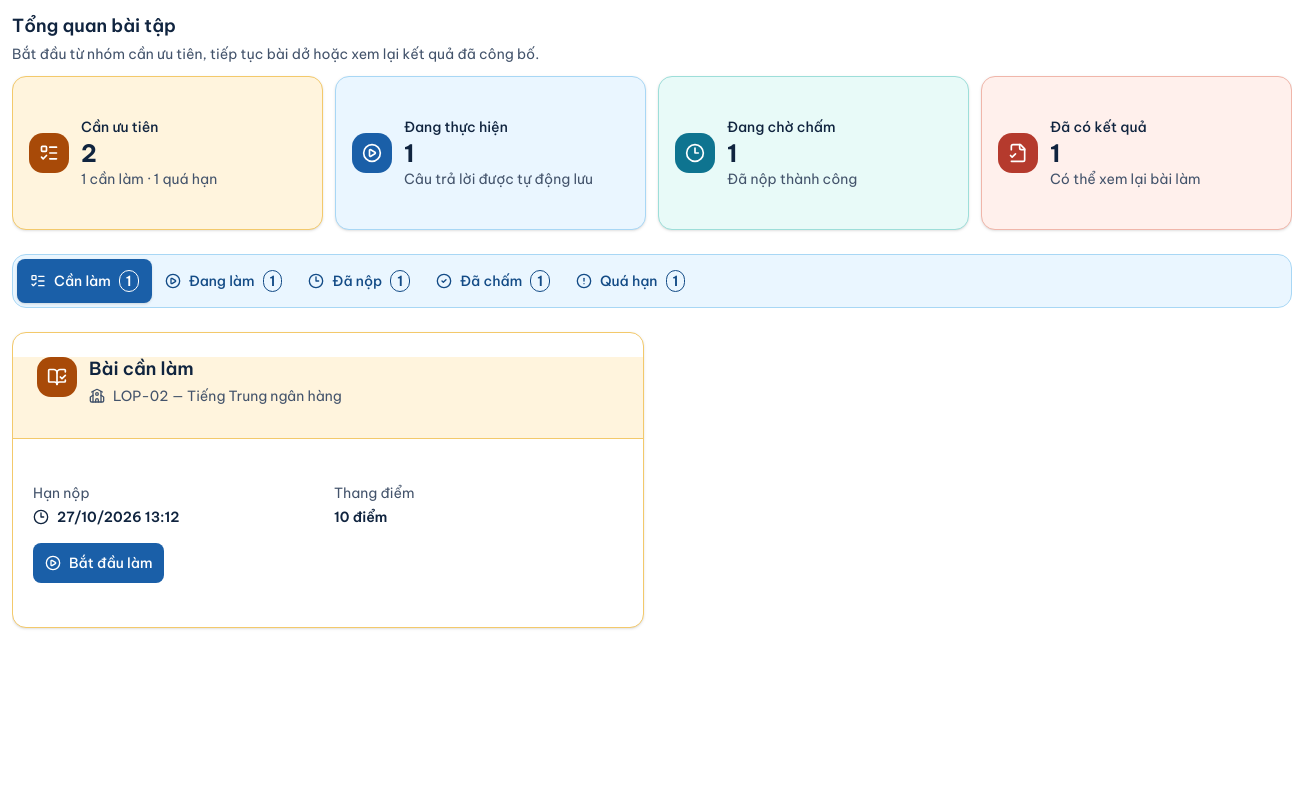
Test case: StudentExerciseList › dùng manual activation để phím mũi tên chỉ dời focus
Step 1. Click the tab "Cần làm 1" → (84, 281), box [17, 259, 152, 303]
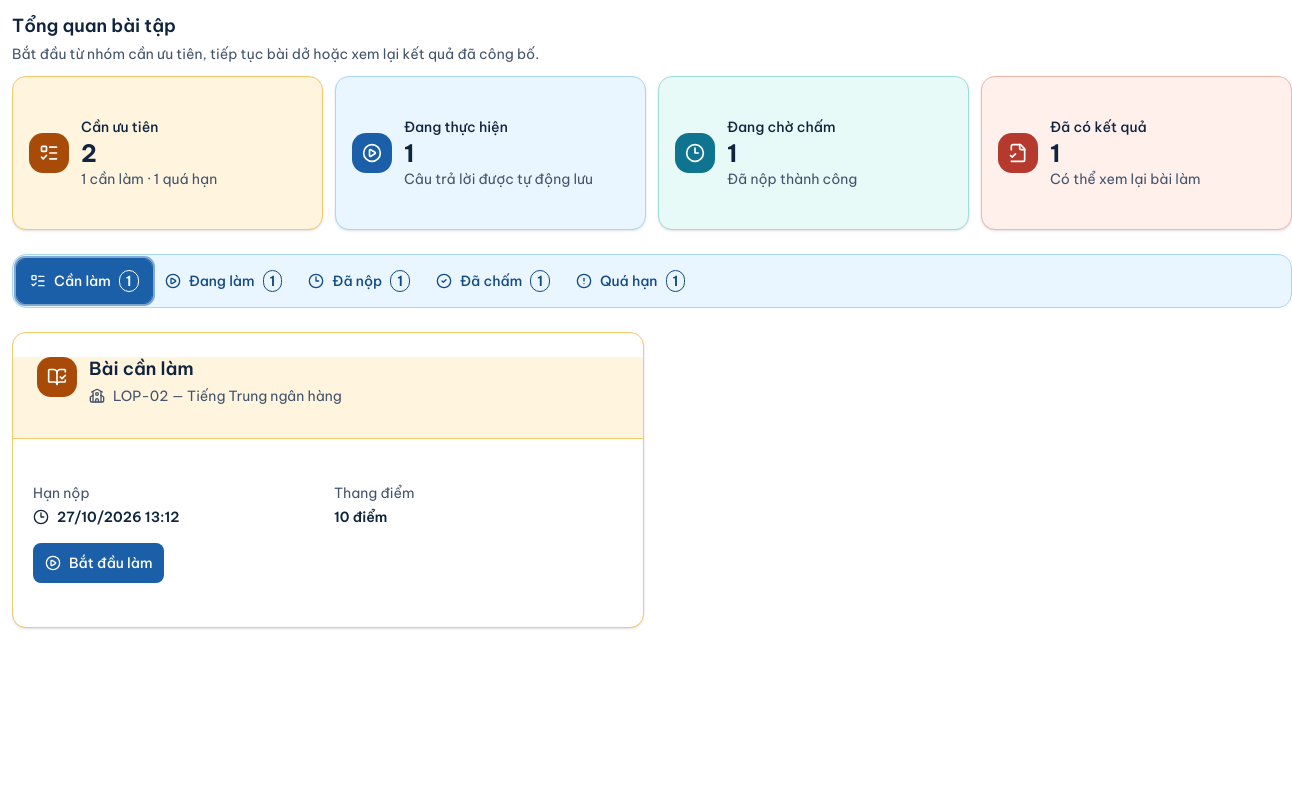
Step 2. Press Arrowright
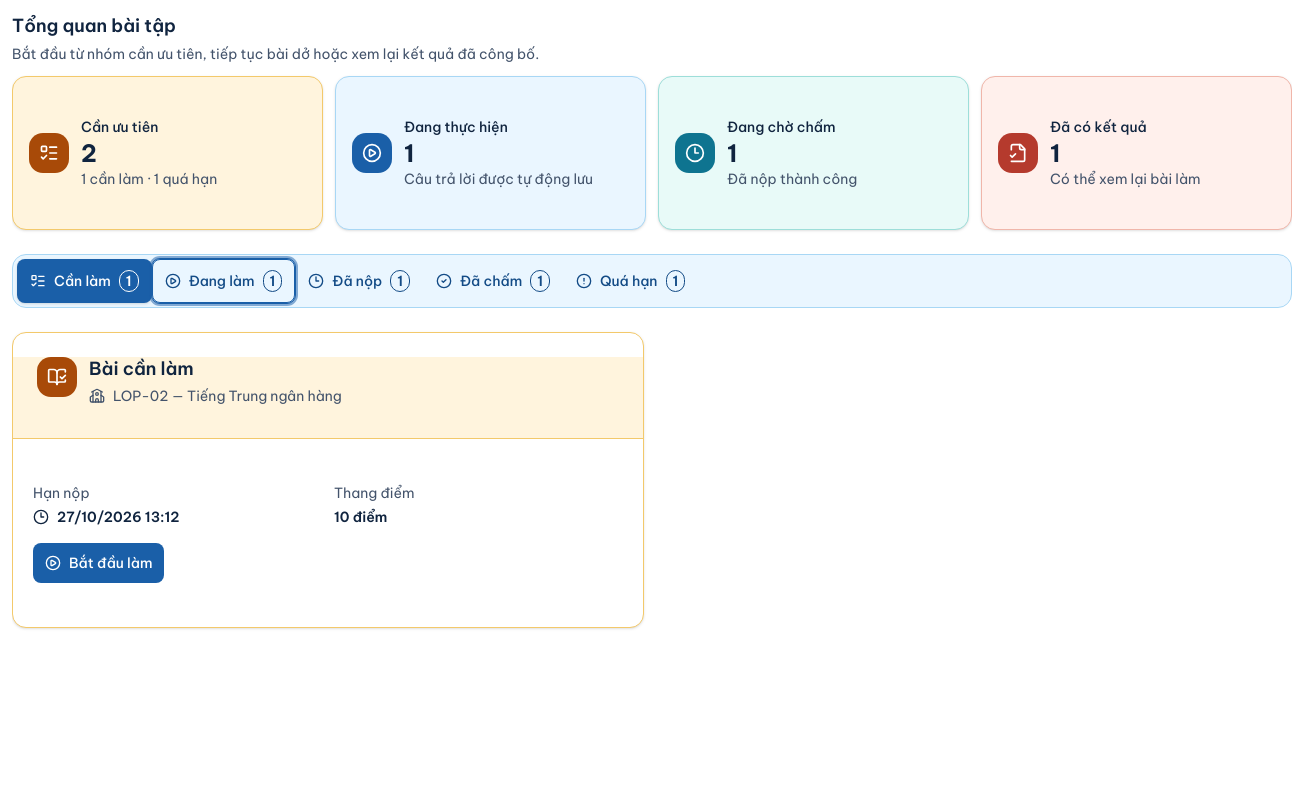
expect the heading "Bài cần làm" is shown: met, box [89, 357, 194, 380]
Step 3. Press Enter
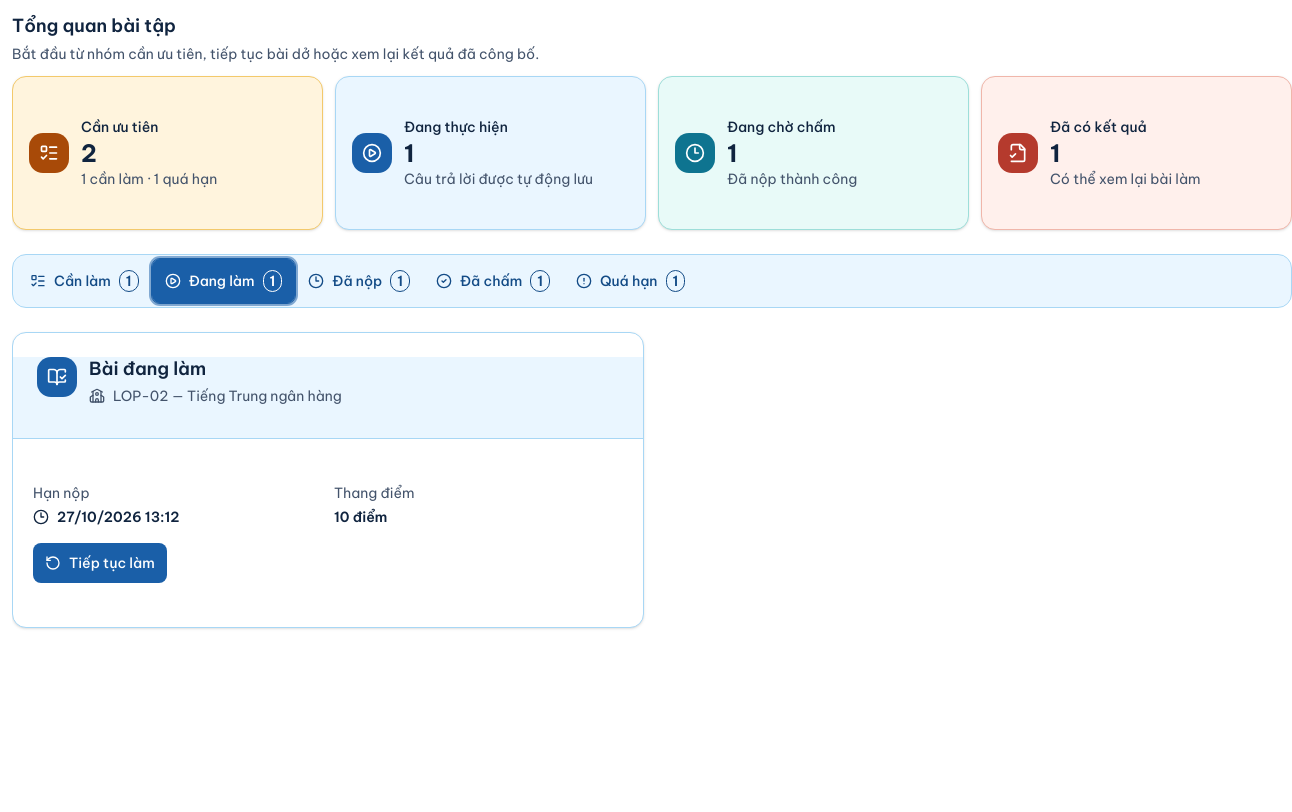
expect the heading "Bài đang làm" is shown: met, box [89, 357, 206, 380]
